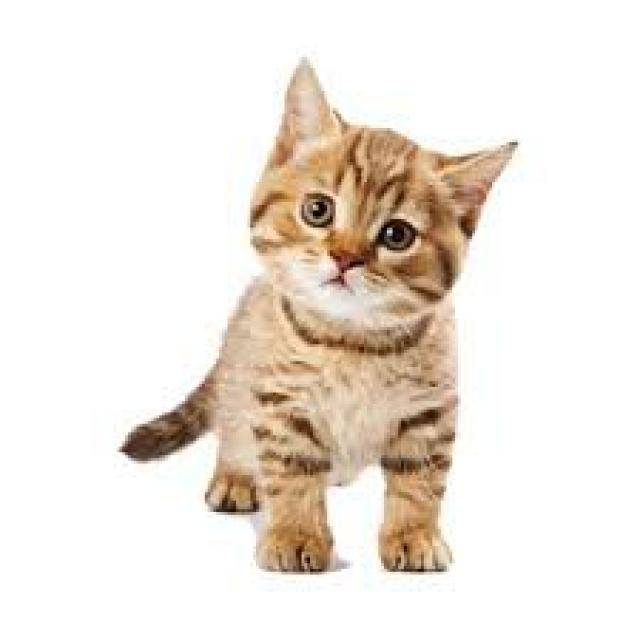cat: (227, 99, 460, 323)
